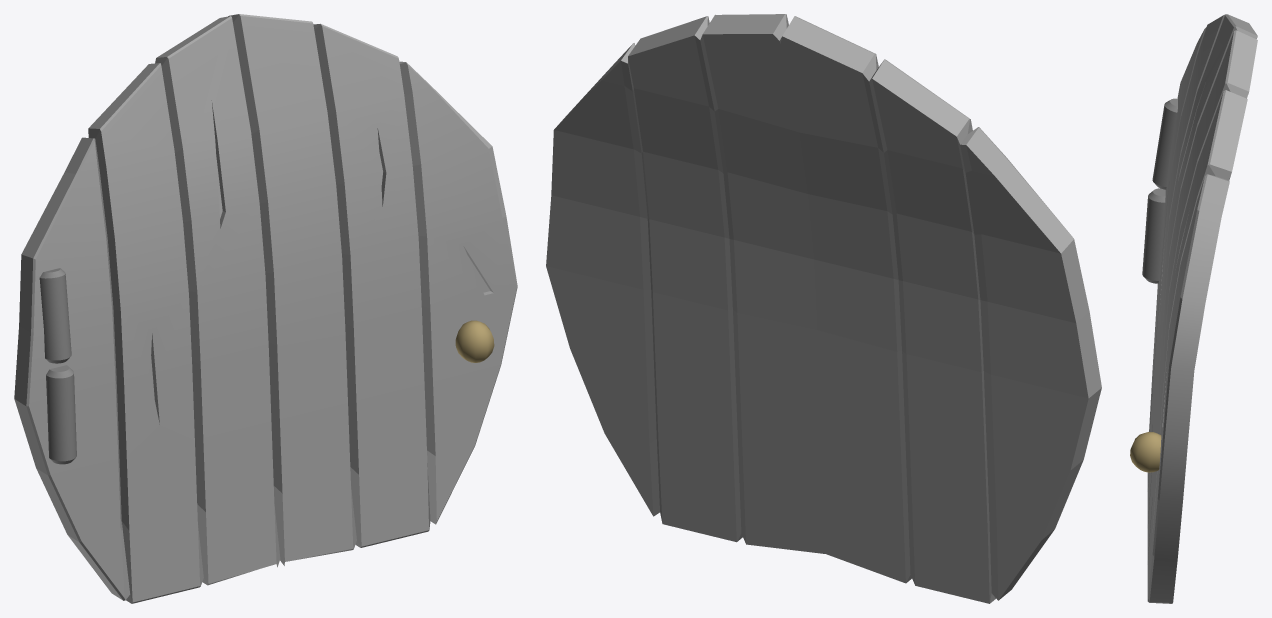
File: Door.fbx
The picture shows the model from 3 angles, left to right: view 1: azimuth 30°, elevation 25°; view 2: azimuth 150°, elevation 25°; view 3: azimuth 270°, elevation 25°; orthographic projection. The views are drawn at different scales.
Visible parts, largest first — view 1: polySurface1, polySurface6, polySurface4; view 2: polySurface1; view 3: polySurface1, polySurface6, polySurface4.
Boxes of the visible parts, left/top/right/bottom form: polySurface1: left=14, top=14, right=517, bottom=603; polySurface6: left=39, top=268, right=76, bottom=464; polySurface4: left=455, top=320, right=494, bottom=362; polySurface1: left=546, top=14, right=1101, bottom=603; polySurface1: left=1147, top=14, right=1257, bottom=603; polySurface6: left=1142, top=98, right=1177, bottom=283; polySurface4: left=1130, top=432, right=1161, bottom=472.
Bounding box in the file's own units: 1.93 × 1.96 × 0.4485.
